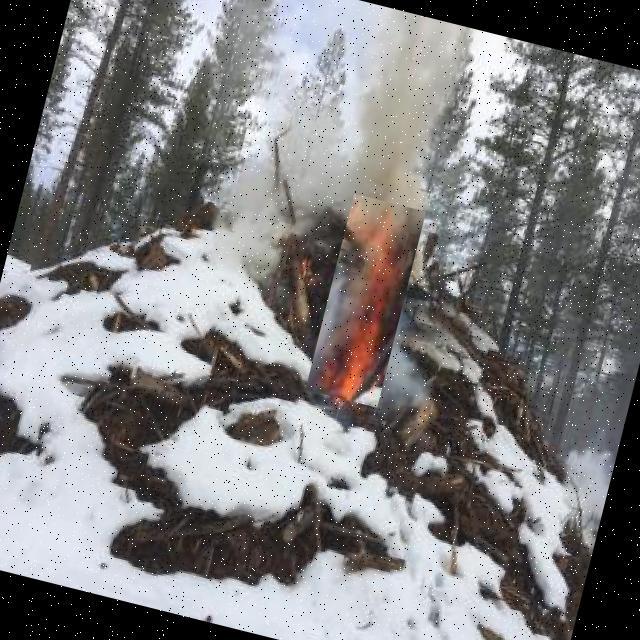fire: (304, 194, 426, 408)
